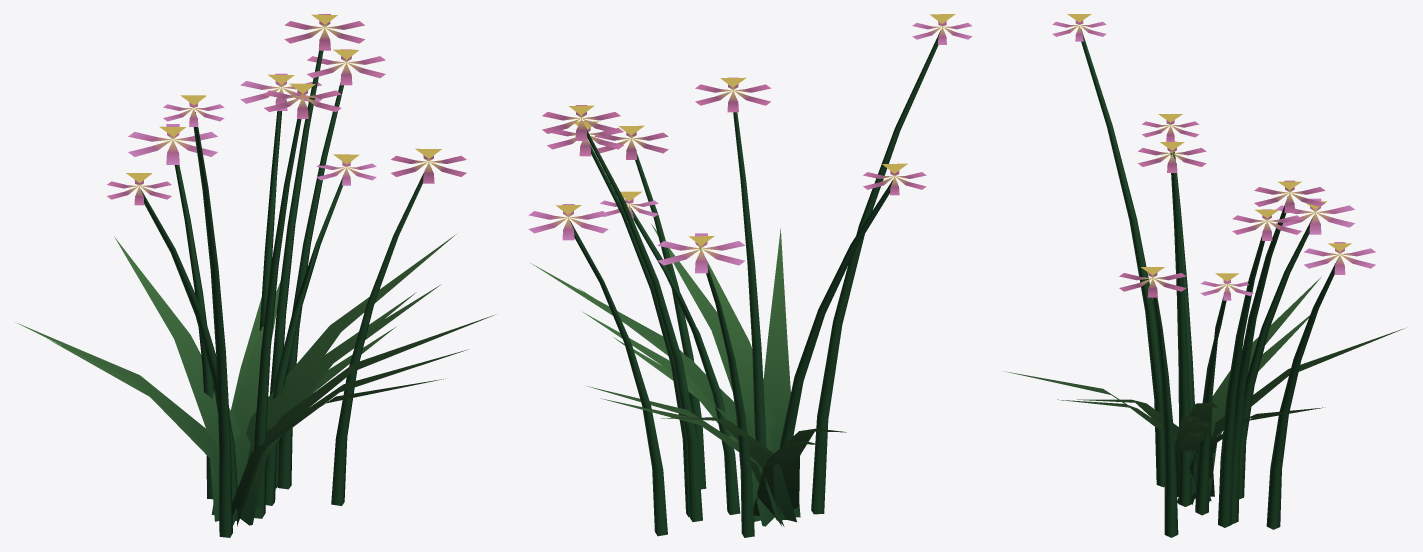
File: flower_pink.glb
3 renders of one model, left to right at view 1: azimuth 30°, elevation 25°; view 2: azimuth 150°, elevation 25°; view 3: azimuth 270°, elevation 25°, orthographic. The views are drawn at different scales.
Parts seen in each view (by area): view 1: flower_pink; view 2: flower_pink; view 3: flower_pink.
Part boxes in pixels (x1=…): flower_pink: x1=15, y1=14, x2=495, y2=537; flower_pink: x1=528, y1=14, x2=972, y2=537; flower_pink: x1=1004, y1=14, x2=1404, y2=537.
Bounding box in the file's own units: 0.344 × 0.4184 × 0.3561.
